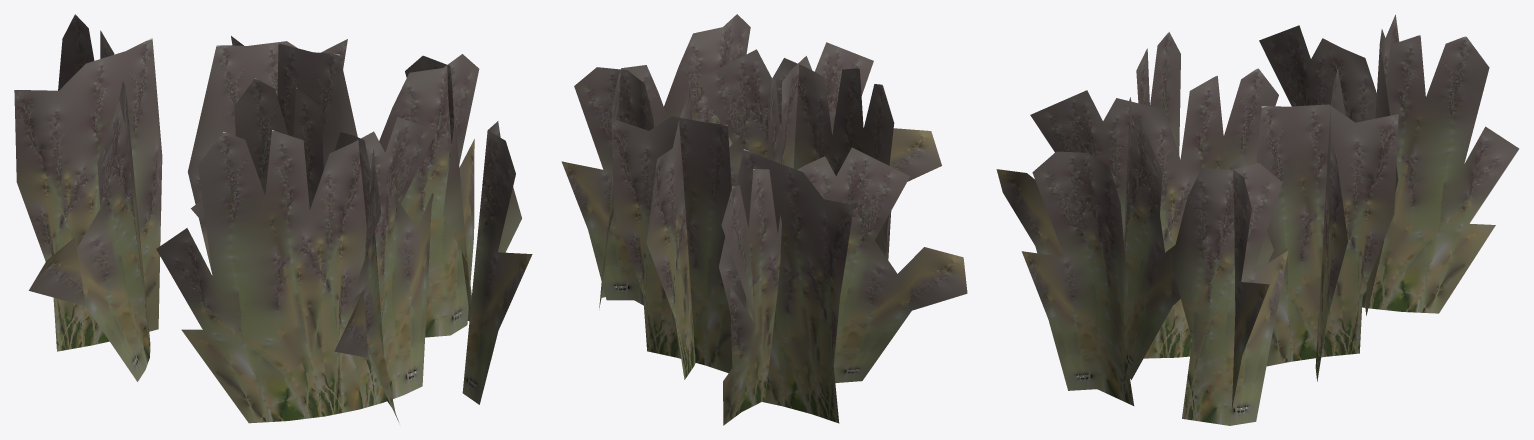
The model's file is SM_Grass_Reeds01.fbx.
The picture shows the model from 3 angles, left to right: view 1: azimuth 30°, elevation 25°; view 2: azimuth 150°, elevation 25°; view 3: azimuth 270°, elevation 25°; orthographic projection. The views are drawn at different scales.
Parts seen in each view (by area): view 1: Grass_Reeds_LOD0; view 2: Grass_Reeds_LOD0; view 3: Grass_Reeds_LOD0.
Boxes of the visible parts, left/top/right/bottom form: Grass_Reeds_LOD0: left=14, top=14, right=532, bottom=423; Grass_Reeds_LOD0: left=561, top=14, right=967, bottom=425; Grass_Reeds_LOD0: left=996, top=14, right=1519, bottom=425.
Size of what is drawn, in the model's own units: 368 by 343 by 209.
